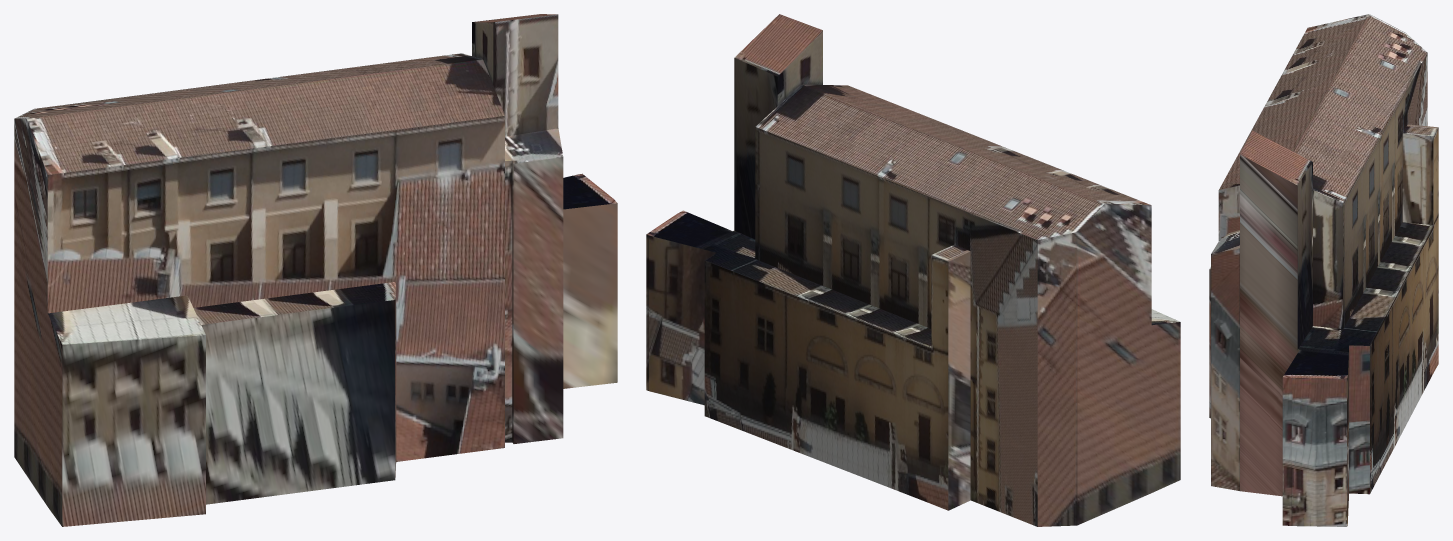
3 views of the same model, side by side, from view 1: azimuth 30°, elevation 25°; view 2: azimuth 150°, elevation 25°; view 3: azimuth 270°, elevation 25° (orthographic). The views are drawn at different scales.
Visible parts, largest first — view 1: Z_UP; view 2: Z_UP; view 3: Z_UP.
Boxes of the visible parts, <box> form: Z_UP: <box>14,14,617,526</box>; Z_UP: <box>646,14,1180,526</box>; Z_UP: <box>1209,14,1438,526</box>.
Size of the model in its own units: 40.97 by 28.16 by 17.32.
Materials: 2 (1 with a texture image).
